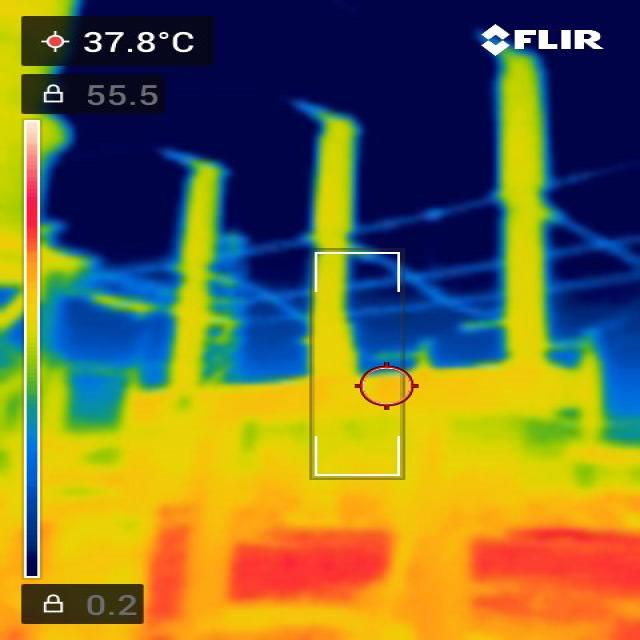Zona_Critica: (235, 536, 391, 603), (475, 535, 635, 592), (148, 512, 187, 619)
